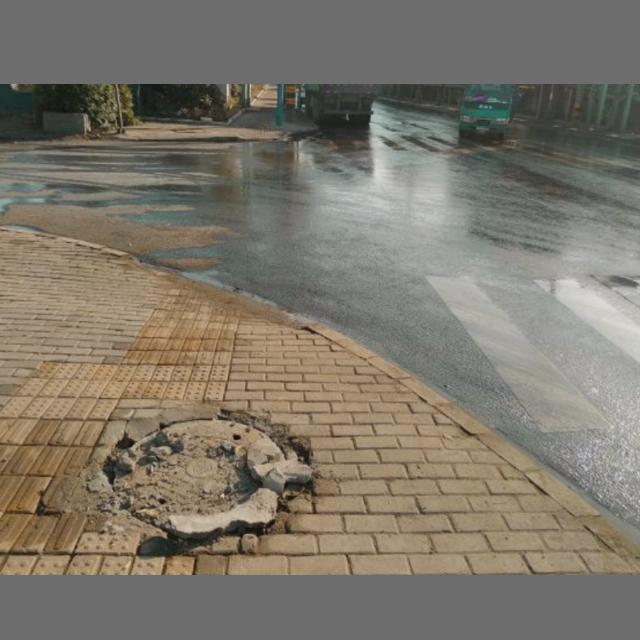circle: (79, 394, 315, 544)
